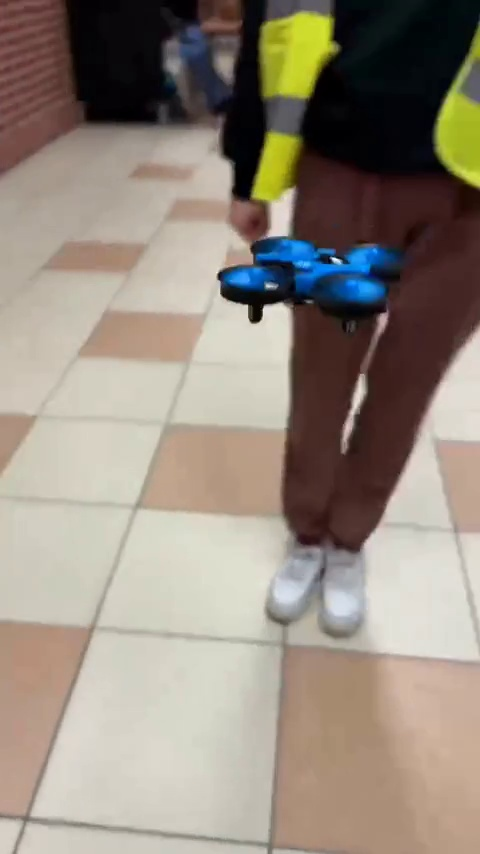drone: (219, 231, 402, 324)
